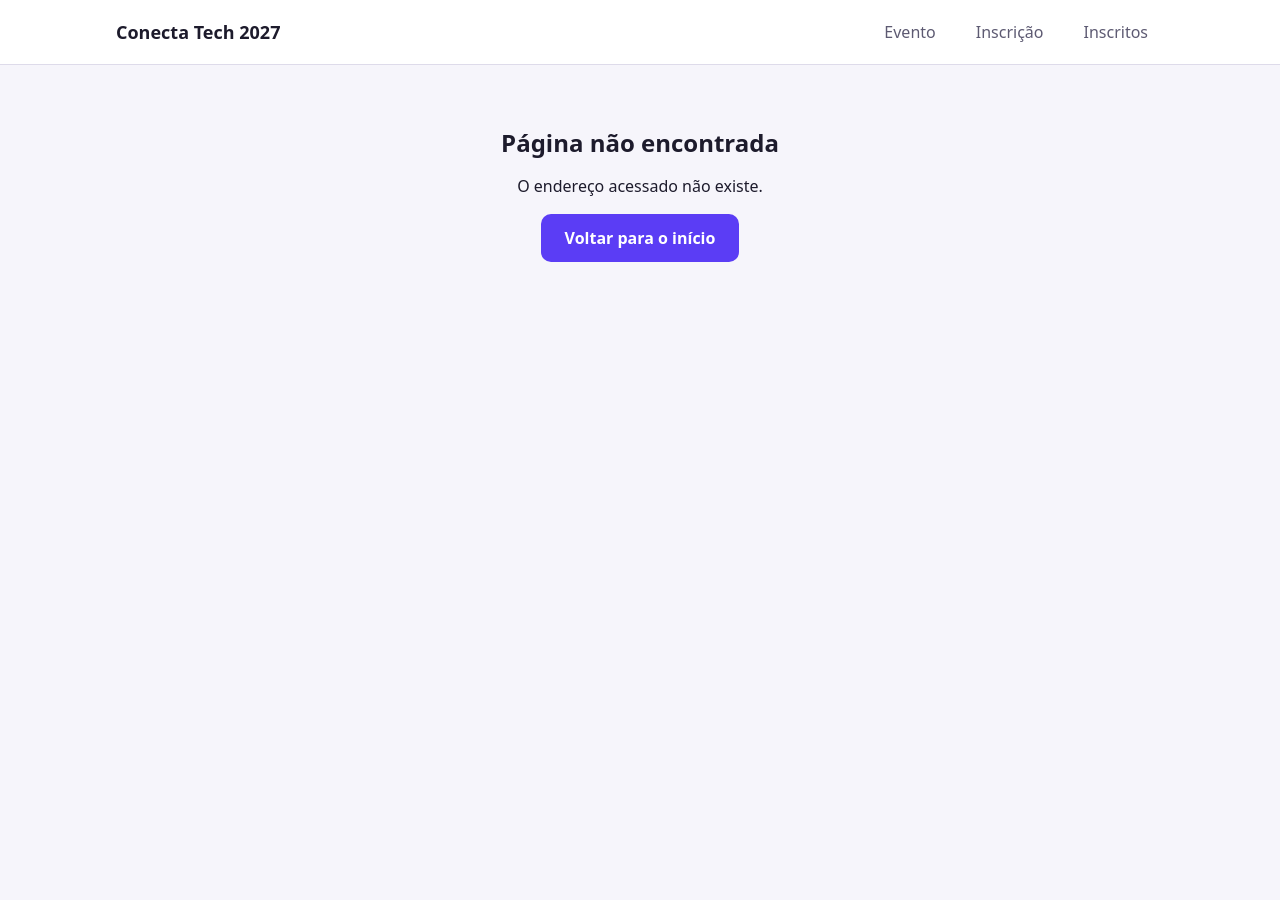
Test case: navegação › REQ-FE-03: caminho desconhecido mostra "Página não encontrada" e o link volta para o evento
Expected: the heading reads "Página não encontrada", [501,126,779,159]
Expected: the navigation bar named "Navegação principal" is shown, [868,16,1164,48]
Click the link "Voltar para o início": (640, 238) [541,214,739,262]
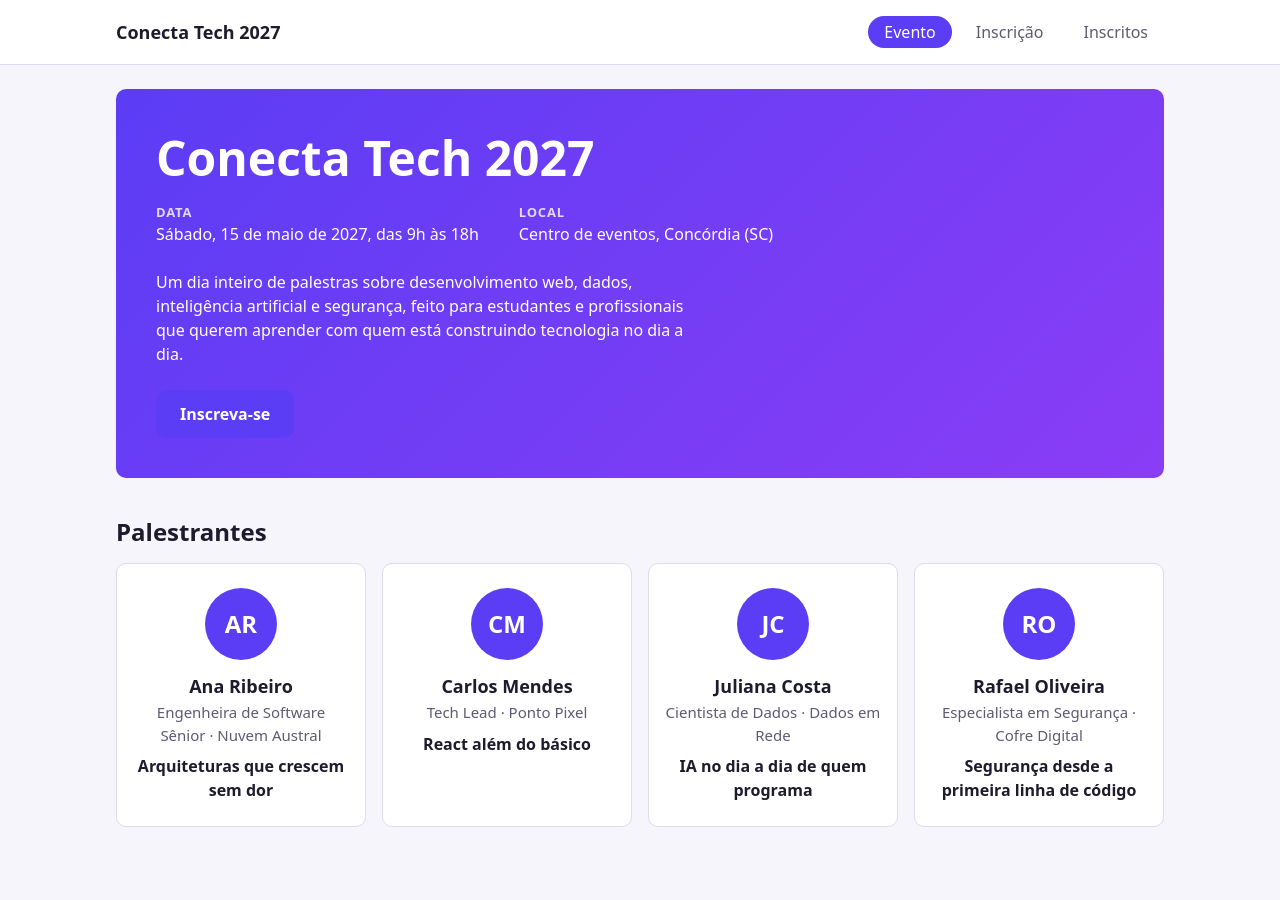
Expected: the heading "Conecta Tech 2027" is shown, [156,125,594,190]
